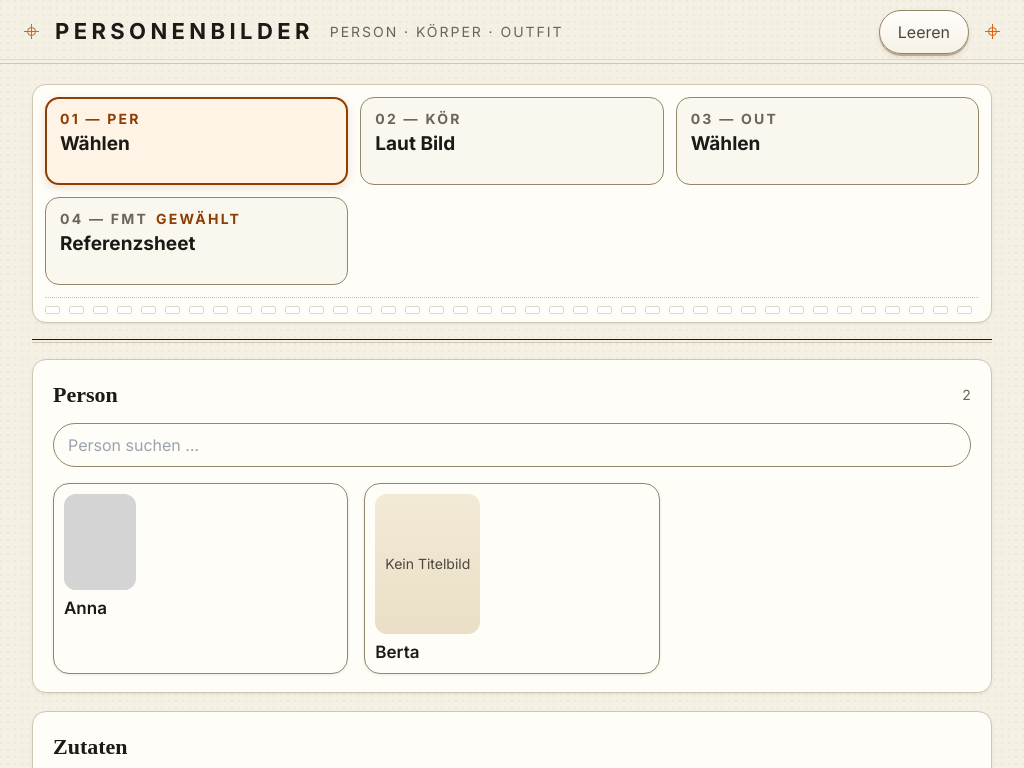
Test case: Die vier Felder › zeigen Person, Körper, Outfit, Format — und was gewählt ist
The image size is (1024, 768).
Click the button "Anna".
click(100, 542)  # box 53,483 -> 348,674
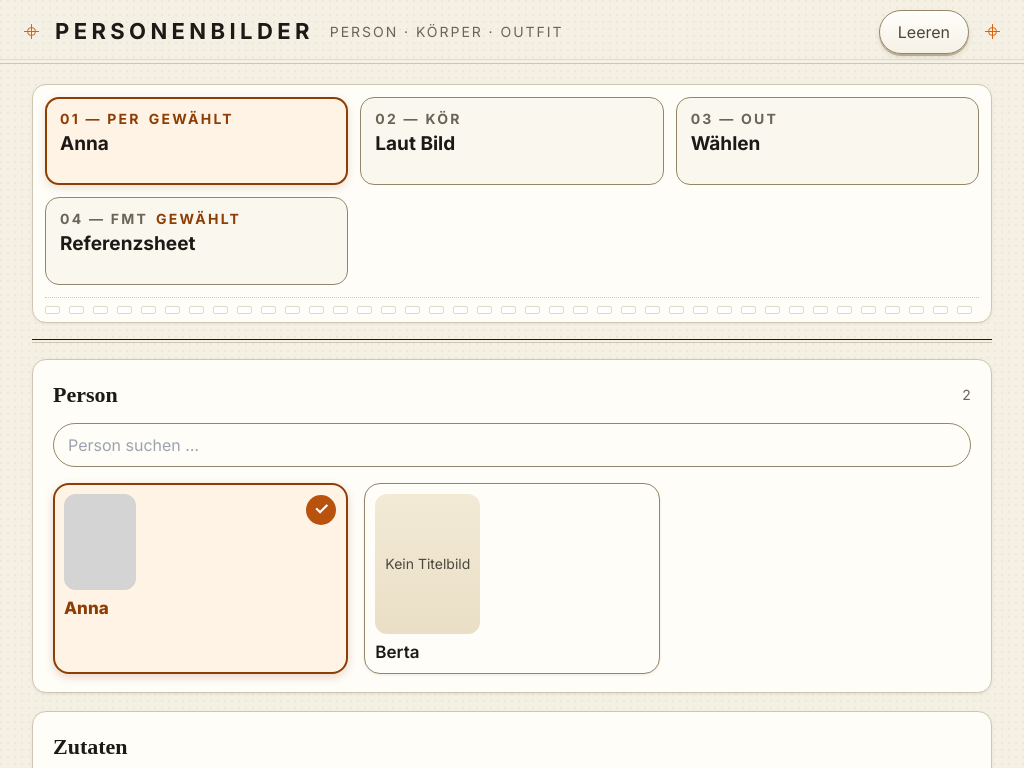
Click the tab "03 — OUT Wählen".
click(734, 118)  # box 676,97 -> 979,185
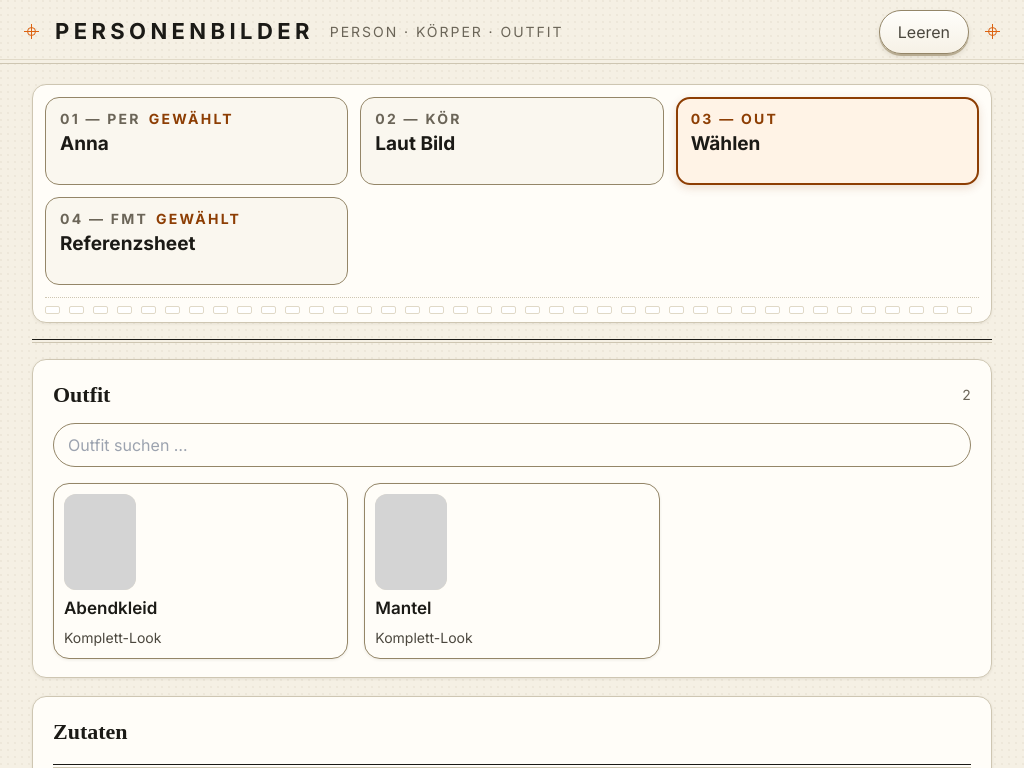
Click the button "Abendkleid Komplett-Look".
click(100, 542)  # box 53,483 -> 348,659
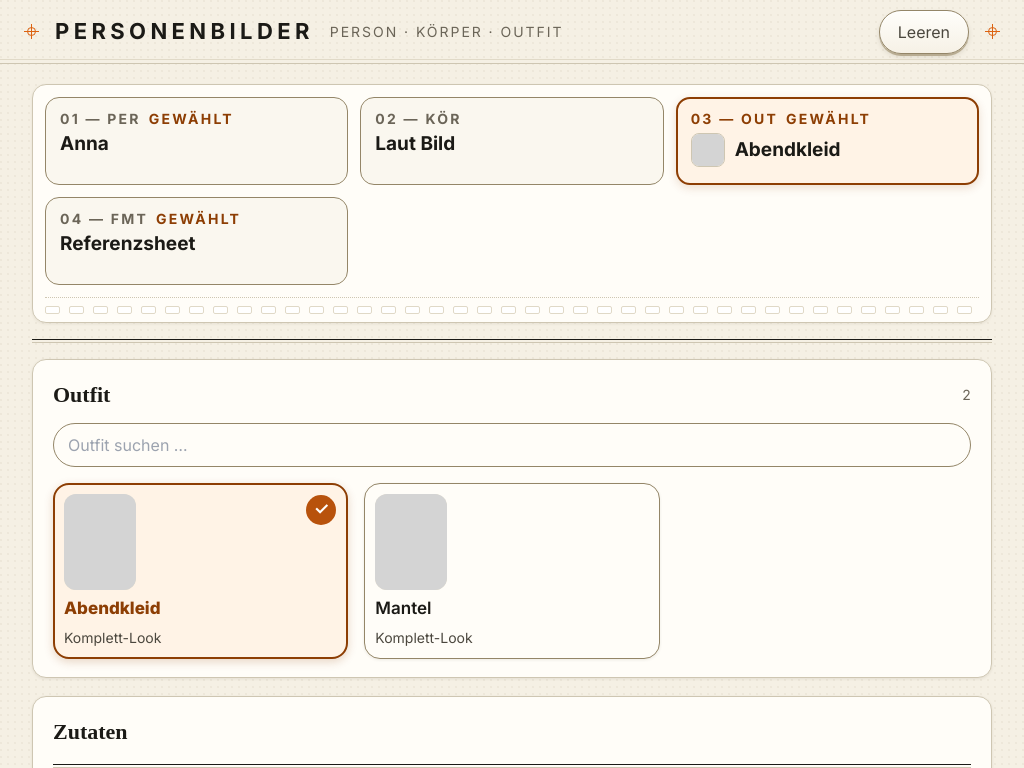
Result: the tab "01 — PER GEWÄHLT Anna" is shown at 45,97 -> 348,185
Result: the tab "03 — OUT GEWÄHLT Abendkleid" is shown at 676,97 -> 979,185
